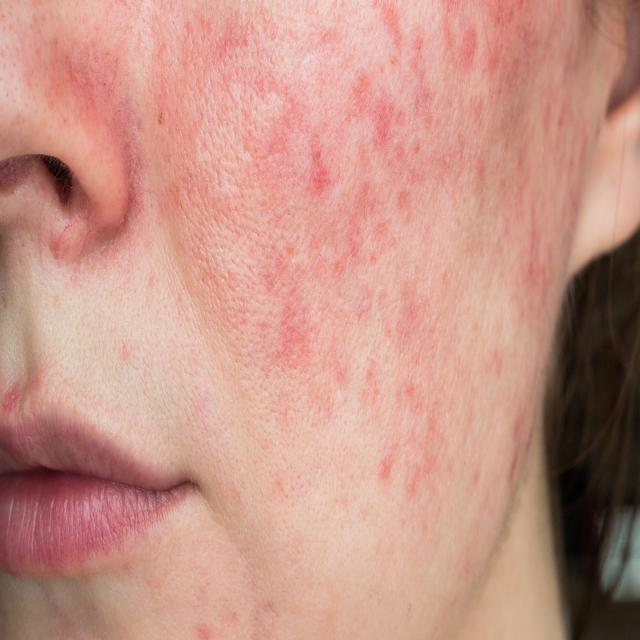Rosacea: (141, 10, 587, 508), (30, 33, 136, 173)
